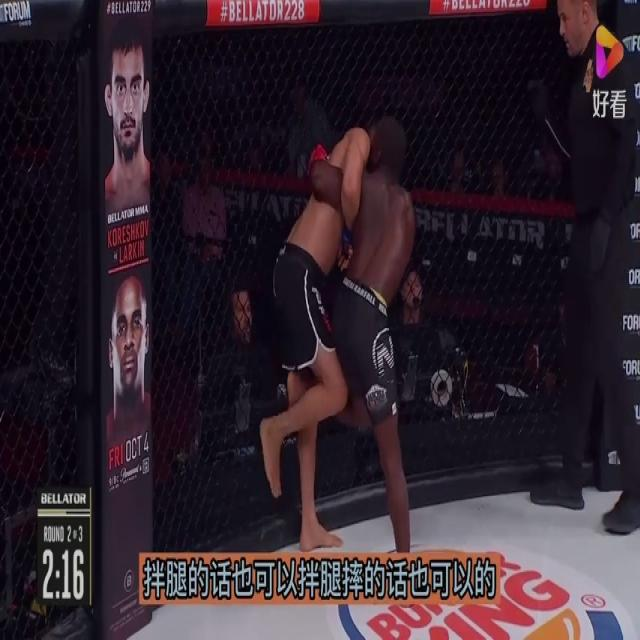fight: (270, 123, 424, 626)
